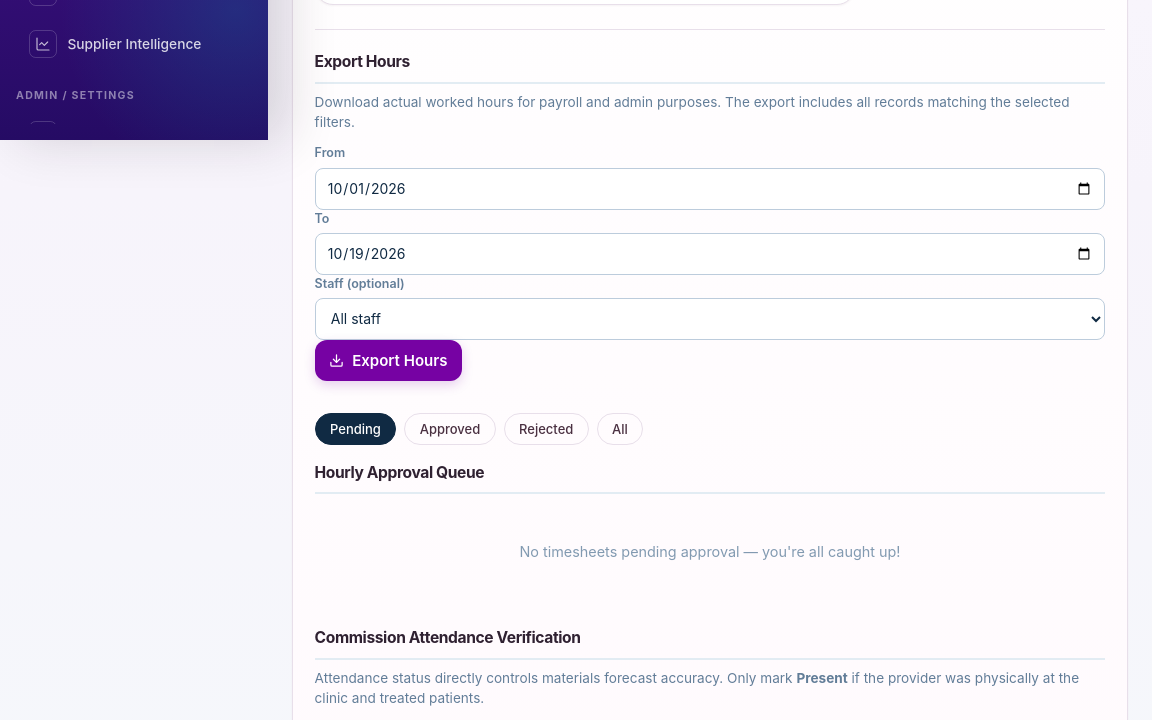
Scenario: TimesheetsPage — Export Hours panel › disables the export button while an export is in progress
(page scrolled)
Click the button "Export Hours".
click(388, 361)  # box top-left (315, 340), bottom-right (462, 381)
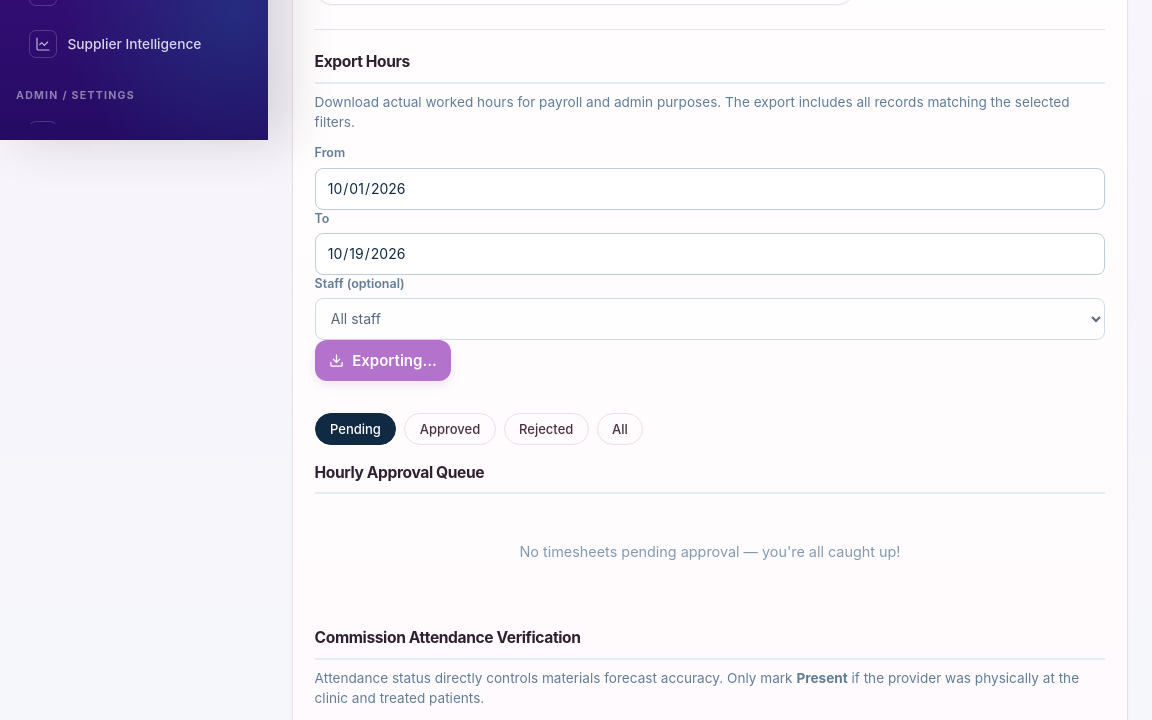
Check: the button "Exporting…" is disabled, box top-left (315, 340), bottom-right (451, 381)
